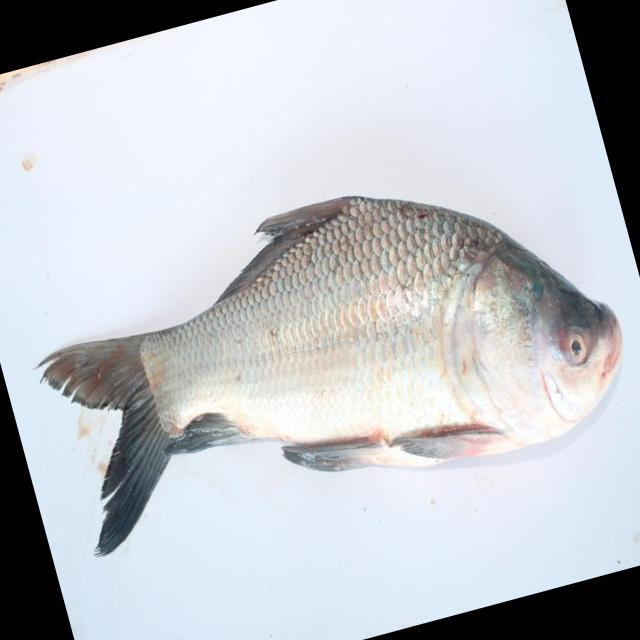Catla: (32, 183, 620, 557)
